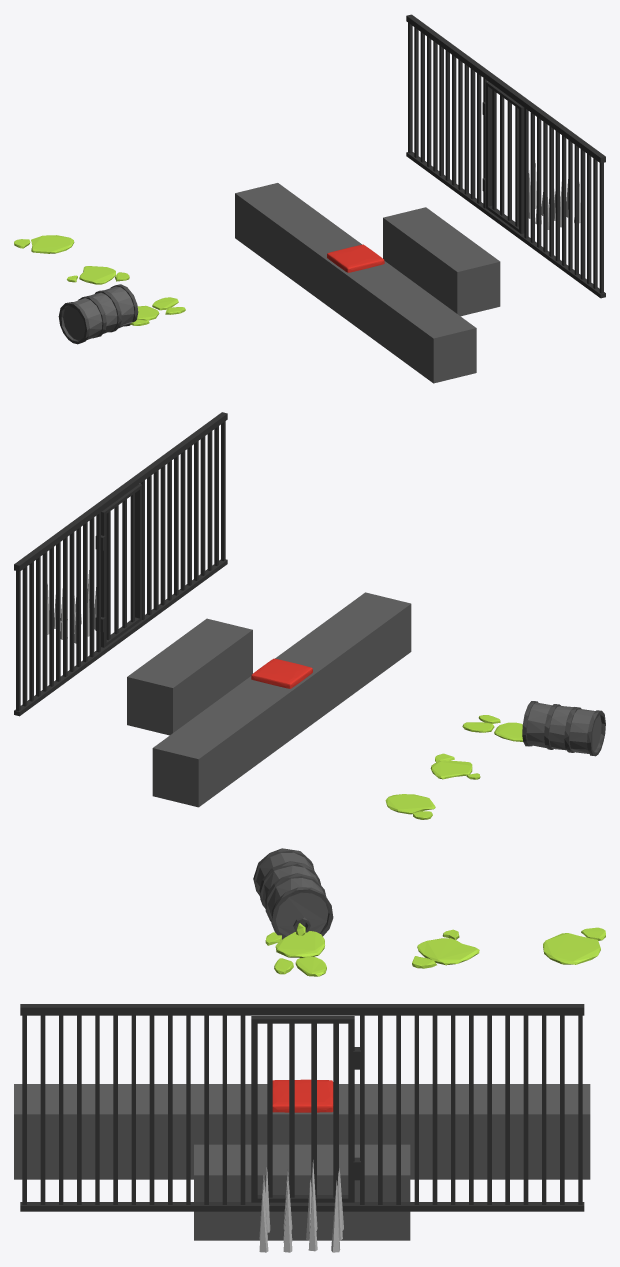
Rendered from props.fbx.
3 renders of one model, top to bottom at view 1: azimuth 30°, elevation 25°; view 2: azimuth 150°, elevation 25°; view 3: azimuth 270°, elevation 25°, orthographic. The views are drawn at different scales.
Visible parts, largest first — view 1: wall, ground1, block1, door, acid1, button, acid3, acid2, spikes; view 2: wall, ground1, block1, door, acid1, button, acid3, acid2, spikes; view 3: wall, ground1, block1, door, acid1, spikes, button, acid3, acid2.
Boxes of the visible parts, box(x1,y1,x2,y2) form: wall: box(406, 14, 605, 298); ground1: box(235, 183, 476, 383); block1: box(383, 207, 500, 316); door: box(485, 81, 524, 233); acid1: box(58, 284, 185, 344); button: box(327, 244, 384, 272); acid3: box(14, 235, 74, 253); acid2: box(67, 266, 129, 284); spikes: box(528, 160, 580, 229); wall: box(14, 412, 227, 716); ground1: box(152, 592, 411, 807); block1: box(127, 618, 252, 735); door: box(101, 484, 142, 647); acid1: box(462, 701, 605, 756); button: box(251, 658, 312, 688); acid3: box(385, 794, 435, 819); acid2: box(430, 753, 480, 779); spikes: box(47, 570, 96, 643); wall: box(20, 1004, 584, 1211); ground1: box(14, 1084, 590, 1179); block1: box(194, 1144, 410, 1240); door: box(251, 1016, 354, 1202); acid1: box(253, 848, 333, 976); spikes: box(259, 1160, 343, 1252); button: box(272, 1079, 333, 1112); acid3: box(543, 927, 605, 964); acid2: box(412, 929, 479, 968).
Bounding box in the file's own units: 2342 × 812 × 1643.
